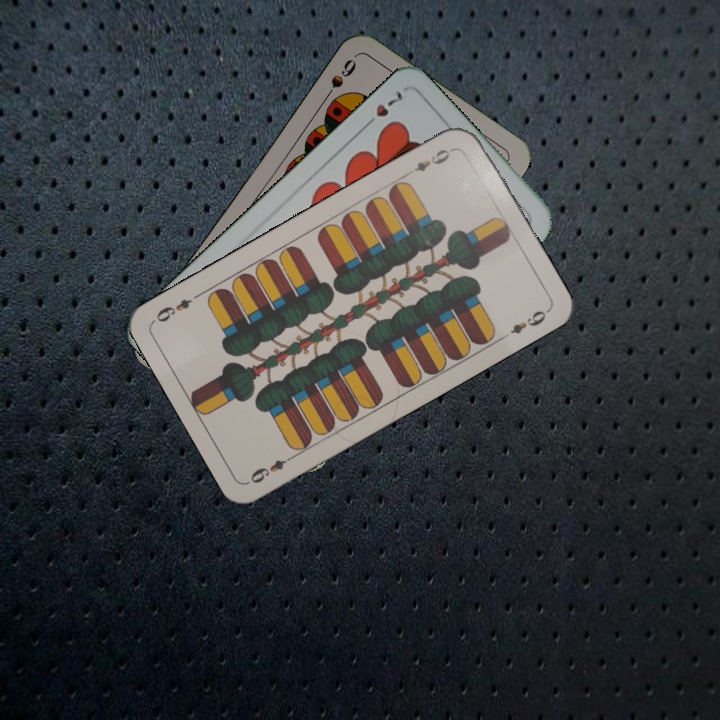E9: (246, 450, 299, 486), (409, 144, 457, 175)
H7: (359, 86, 405, 131)
S9: (318, 55, 359, 106)
